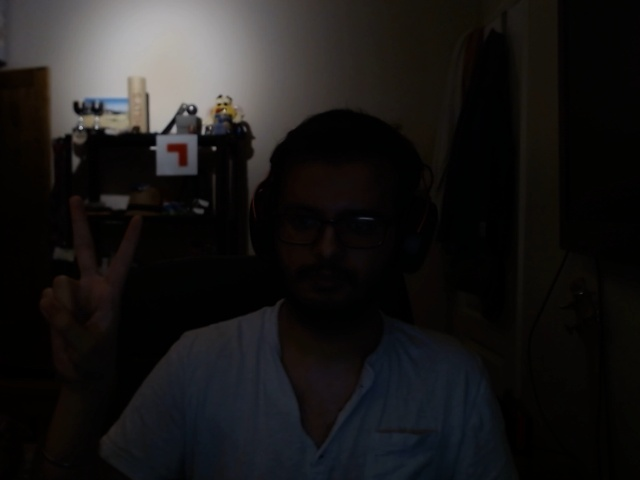Peace: (27, 190, 156, 393)
